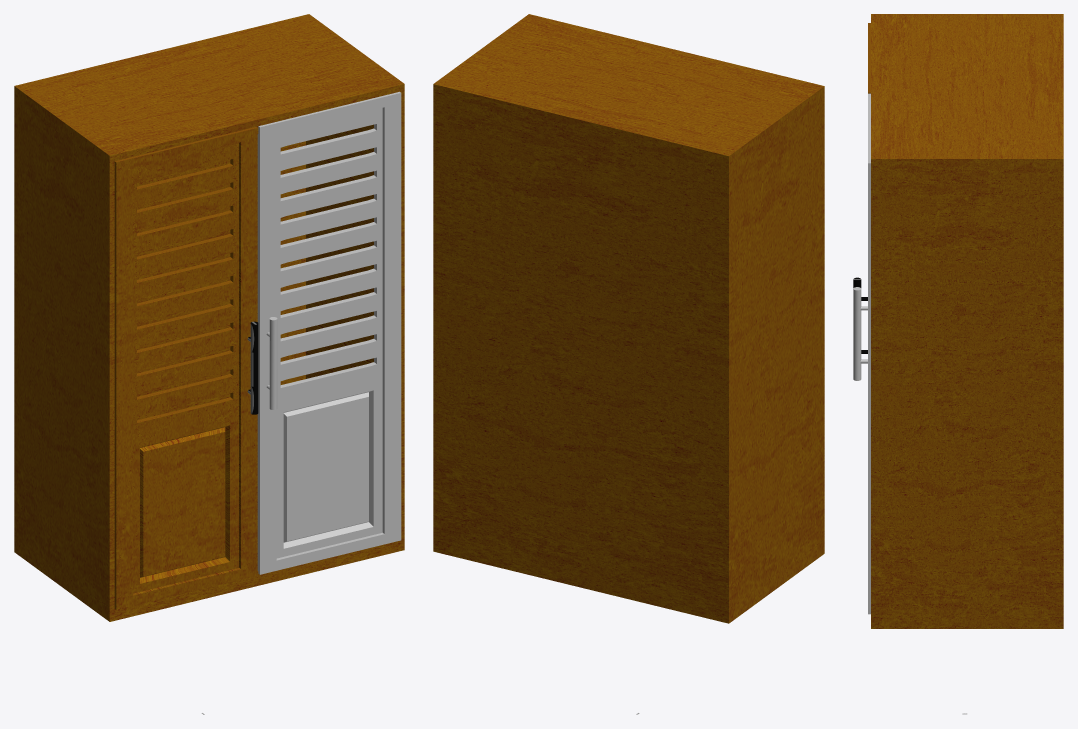
File: TestDoorAnimation.fbx
3 views of the same model, side by side, from view 1: azimuth 30°, elevation 25°; view 2: azimuth 150°, elevation 25°; view 3: azimuth 270°, elevation 25° (orthographic).
Visible parts, largest first — view 1: Body, Door_2, Door, Handle, Handle_2; view 2: Body; view 3: Body, Door_2, Handle_2.
Boxes of the visible parts, box(x1,y1,x2,y2) form: Body: box(14, 14, 404, 621); Door_2: box(257, 91, 401, 574); Door: box(114, 127, 257, 609); Handle: box(247, 321, 258, 414); Handle_2: box(266, 317, 277, 409); Body: box(433, 14, 824, 623); Body: box(871, 14, 1063, 628); Door_2: box(868, 93, 870, 614); Handle_2: box(853, 287, 867, 380).
Bounding box in the file's own units: 172 × 349 × 105.
